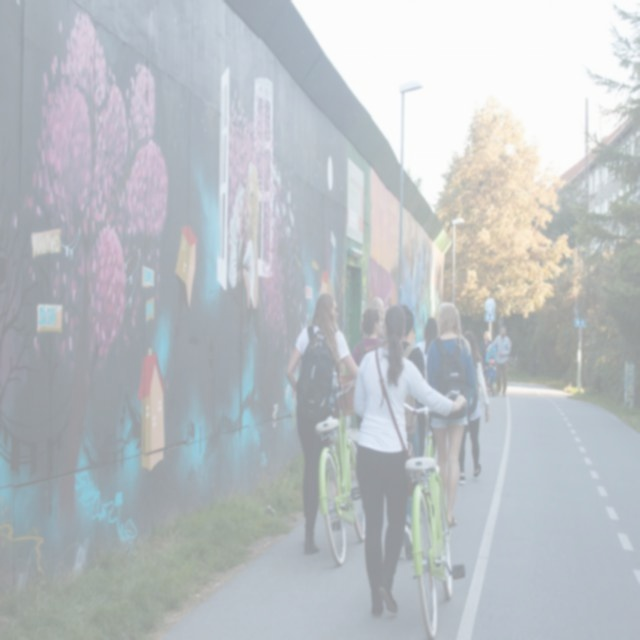pessoa: (351, 302, 469, 620), (286, 291, 360, 555), (424, 302, 478, 530), (398, 303, 428, 556), (222, 156, 264, 316), (458, 330, 491, 486), (350, 306, 387, 431), (414, 316, 440, 460), (486, 324, 510, 398), (480, 330, 492, 378), (484, 358, 498, 398), (371, 295, 386, 325)
